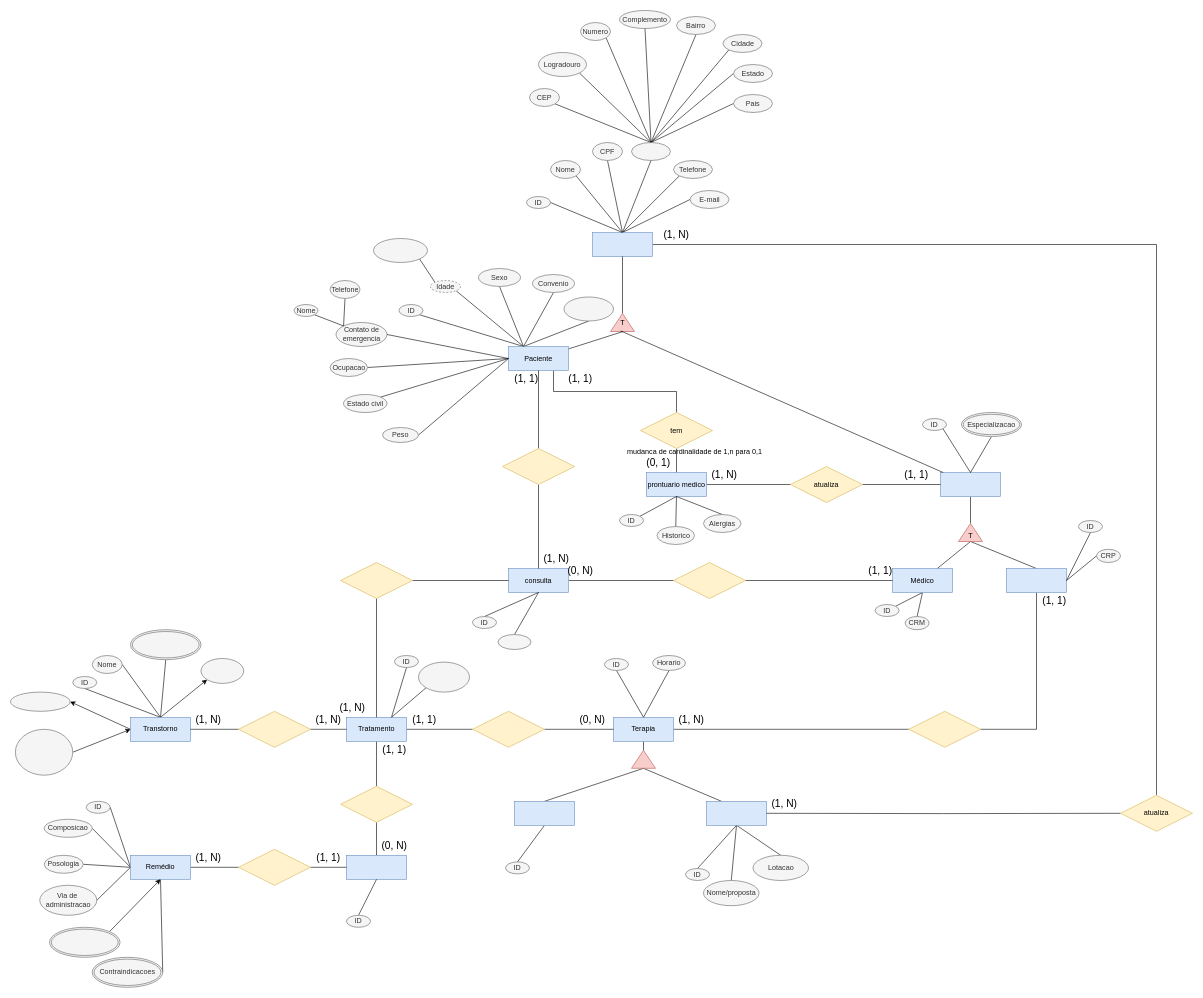
This 1203x998 diagram has some shape labels left out. The centre of each missing label's shape, as x and y in pixels:
Categoria: the point at 222,670
contem: the point at 508,729
contém: the point at 376,804
Data: the point at 514,642
Data de inicio: the point at 444,677
Data de nascimento: the point at 400,250
Data internacao: the point at 588,308
efetua: the point at 709,580
Endereco: the point at 650,151
Fatores de risco: the point at 40,701
Grupo: the point at 736,813
indica: the point at 376,580
Indicacoes: the point at 84,942
Individual: the point at 544,813
marca: the point at 538,466
medica: the point at 274,867
medicação: the point at 376,867
Pessoa: the point at 622,244
Prevalencia (chance de ocorrer na populacao): the point at 44,752
Profissional: the point at 970,484
Psicologo: the point at 1036,580
responsabiliza: the point at 944,729
Sintomas: the point at 165,644
trata: the point at 274,729
